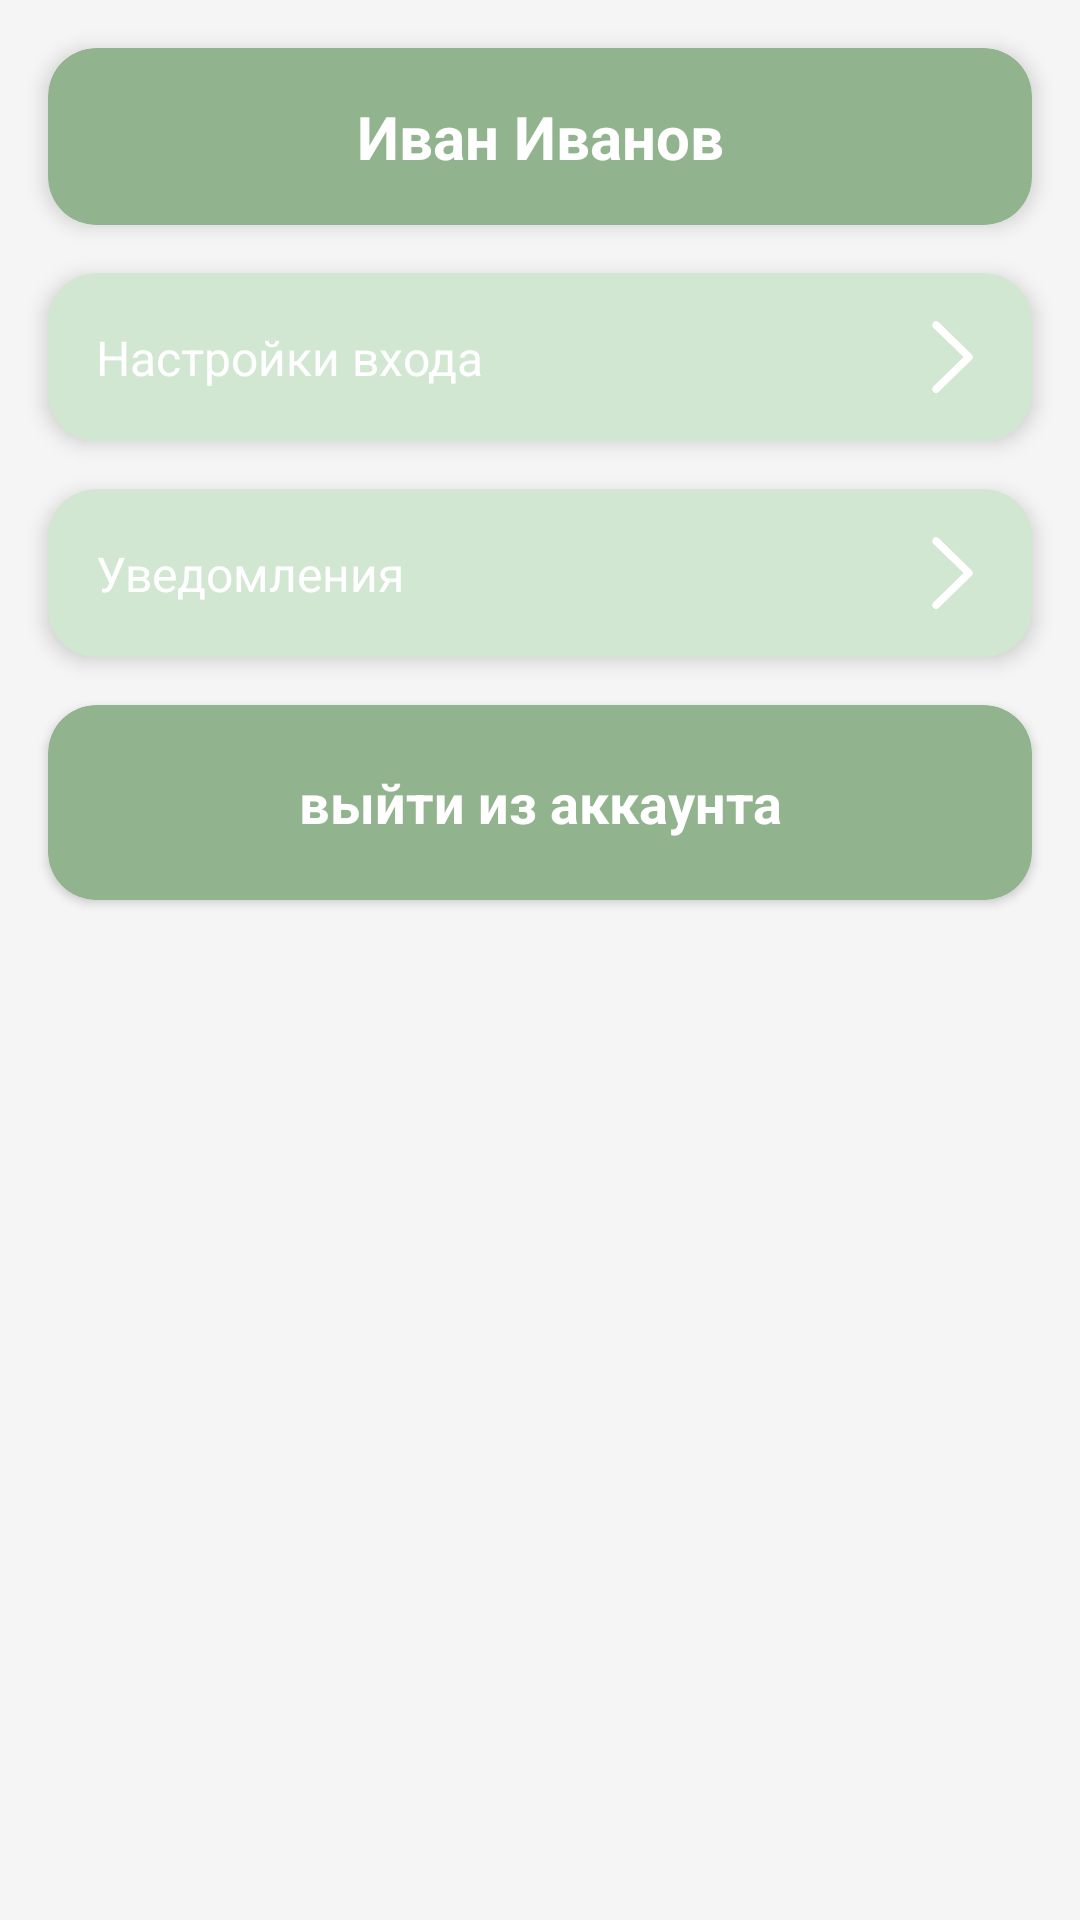

Named icons in this screenshot (1080px×1920px) and their centers, (x,y):
Перейти: (952,357), (952,573)
